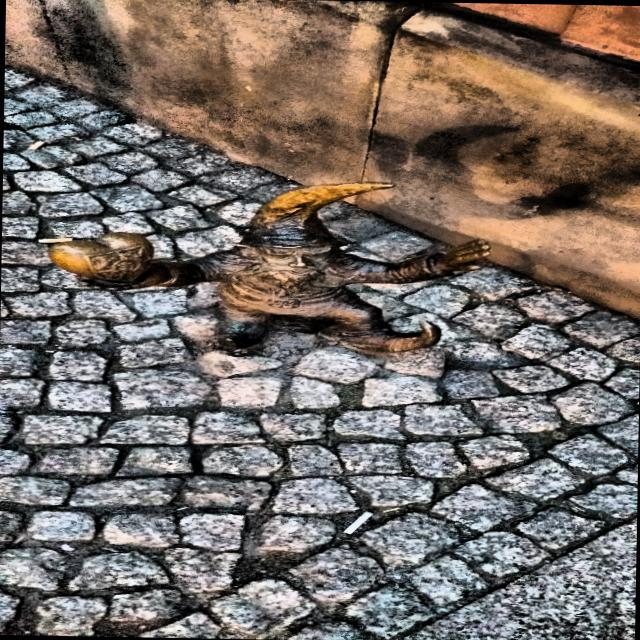WrocLovek: (39, 177, 492, 357)
